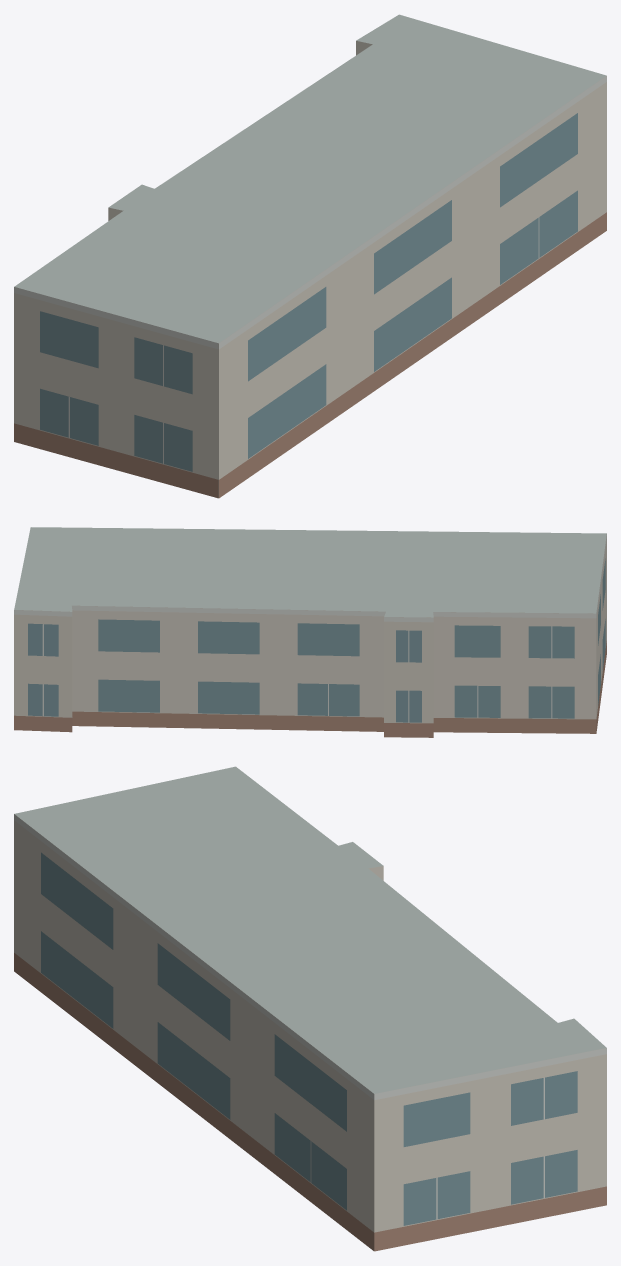
Rendered from survey-upis-32607583.glb.
3 renders of one model, top to bottom at view 1: azimuth 30°, elevation 25°; view 2: azimuth 150°, elevation 25°; view 3: azimuth 270°, elevation 25°, orthographic. The views are drawn at different scales.
Parts seen in each view (by area): view 1: survey-upis-32607583.tmp; view 2: survey-upis-32607583.tmp; view 3: survey-upis-32607583.tmp.
Part boxes in pixels (x1,y1,x2,y2): survey-upis-32607583.tmp: [14, 14, 606, 498]; survey-upis-32607583.tmp: [14, 527, 606, 737]; survey-upis-32607583.tmp: [14, 766, 606, 1251].
Size of the model in its own units: 27.22 by 6.1 by 20.82.
